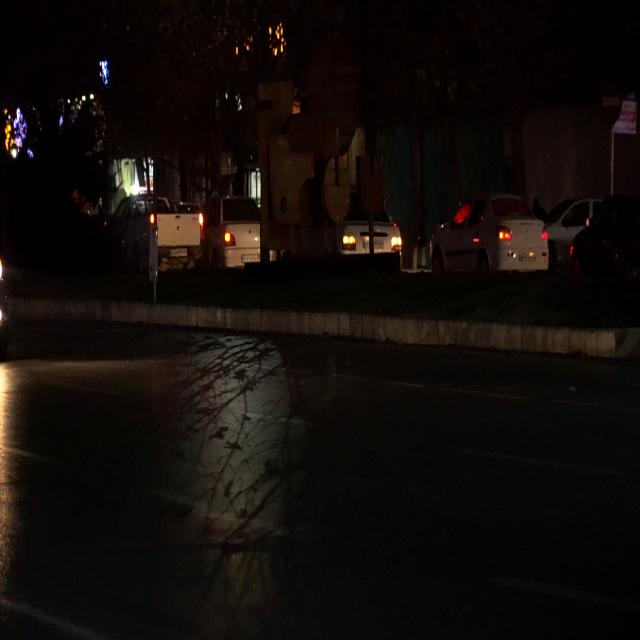car: (428, 197, 552, 273), (295, 185, 403, 256), (108, 193, 206, 268), (203, 198, 262, 262)
